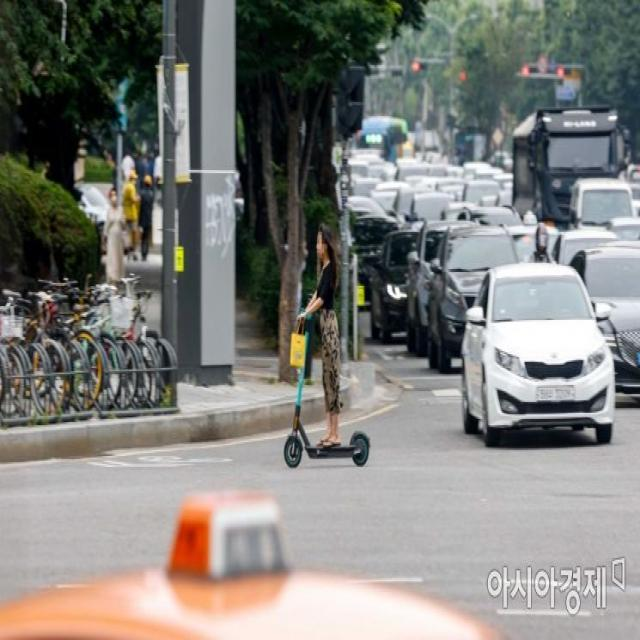non-helmet: (284, 217, 372, 474)
